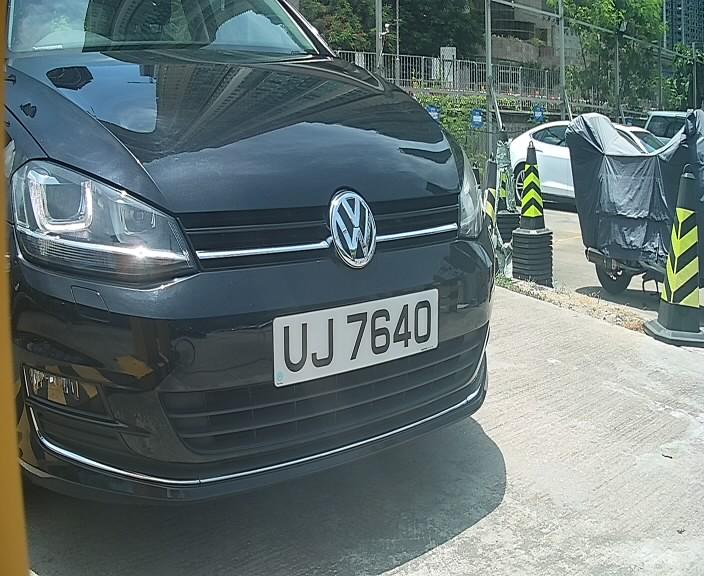License Plate: (274, 286, 434, 386)
